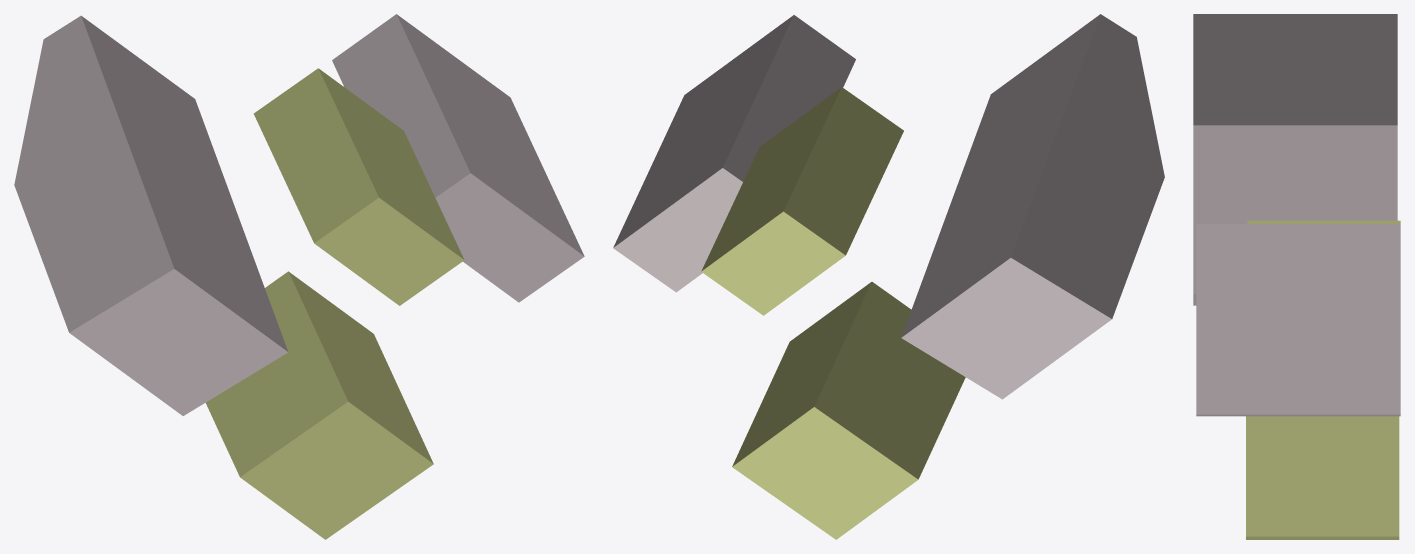
3 views of the same model, side by side, from view 1: azimuth 30°, elevation 25°; view 2: azimuth 150°, elevation 25°; view 3: azimuth 270°, elevation 25° (orthographic). The views are drawn at different scales.
Visible parts, largest first — view 1: 0_2_2_0_0_0_0_2_1_2; view 2: 0_2_2_0_0_0_0_2_1_2; view 3: 0_2_2_0_0_0_0_2_1_2.
Part boxes in pixels (left/top/right/bottom): 0_2_2_0_0_0_0_2_1_2: left=14, top=14, right=584, bottom=539; 0_2_2_0_0_0_0_2_1_2: left=613, top=14, right=1164, bottom=539; 0_2_2_0_0_0_0_2_1_2: left=1193, top=14, right=1400, bottom=539.
Bounding box in the file's own units: 27.82 × 29.11 × 12.17.
